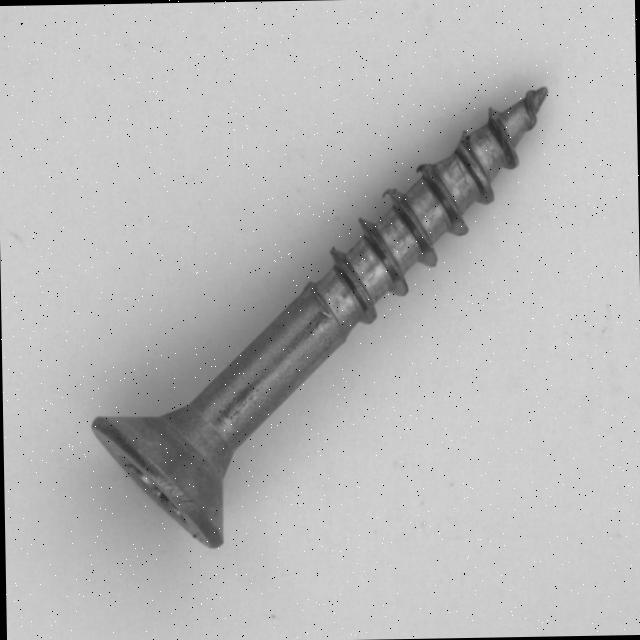thread_side: (381, 126, 468, 200)
